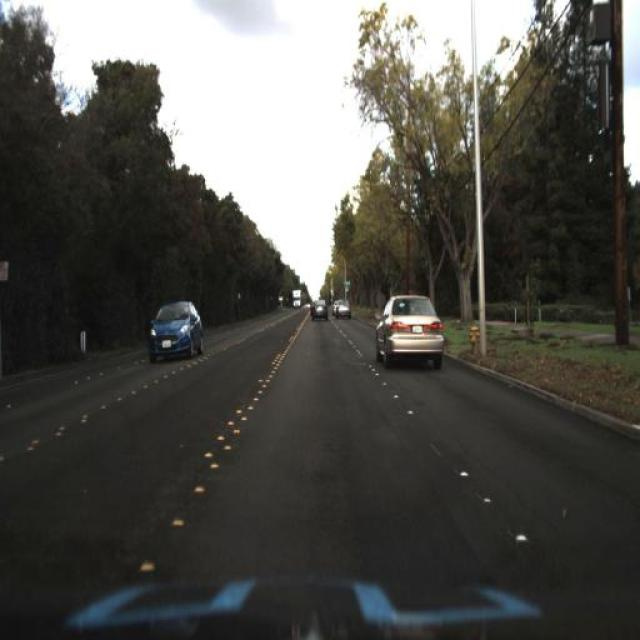car: (375, 290, 457, 384), (148, 298, 206, 362), (332, 292, 358, 322), (309, 294, 330, 326), (334, 297, 354, 318)
